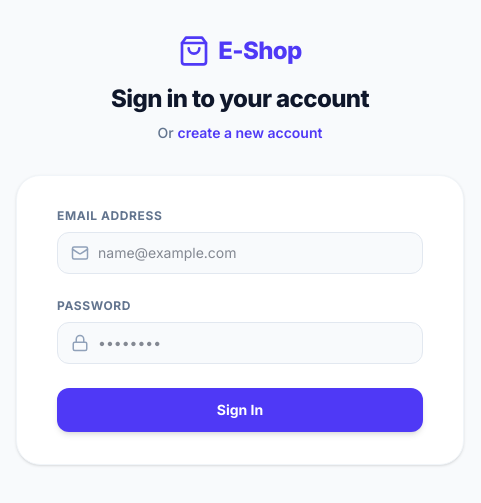
Test: Login Page › validates invalid email format and short password
In the field labelled "Email Address": (240, 253) x1=57 y1=232 x2=423 y2=274, type "invalid-email"
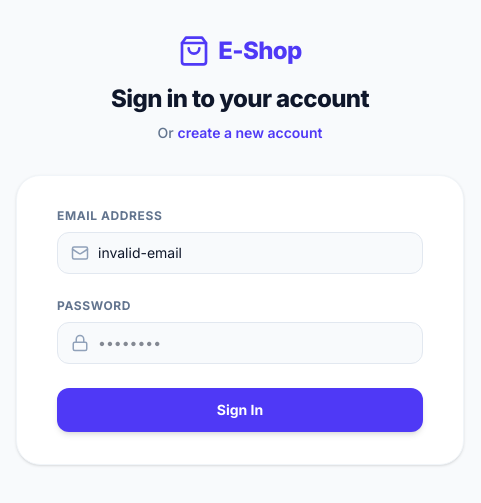
In the password field labelled "Password": (240, 343) x1=57 y1=322 x2=423 y2=364, type "123"
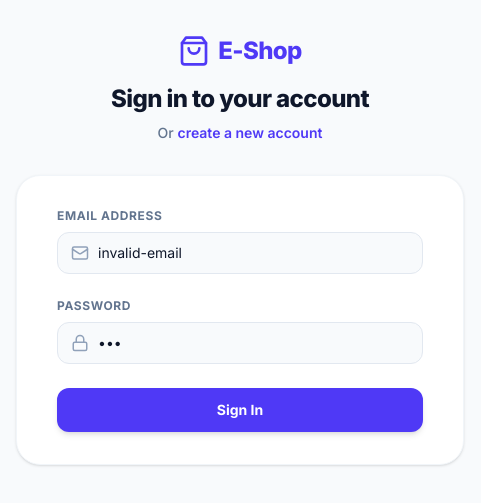
Click the button "Sign In": click(240, 410) x1=57 y1=388 x2=423 y2=432
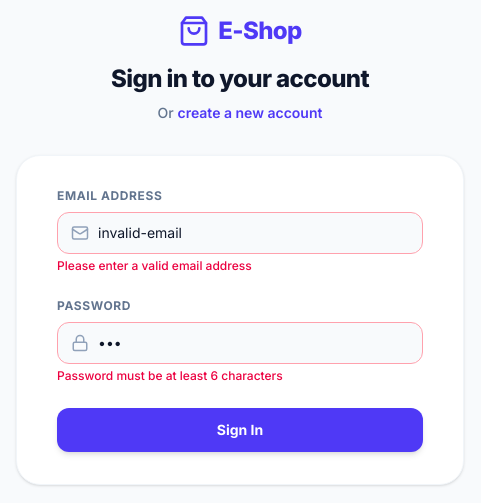
Expected: the text "Please enter a valid email address" is shown, x1=57 y1=258 x2=252 y2=273
Expected: the text "Password must be at least 6 characters" is shown, x1=57 y1=368 x2=283 y2=383
